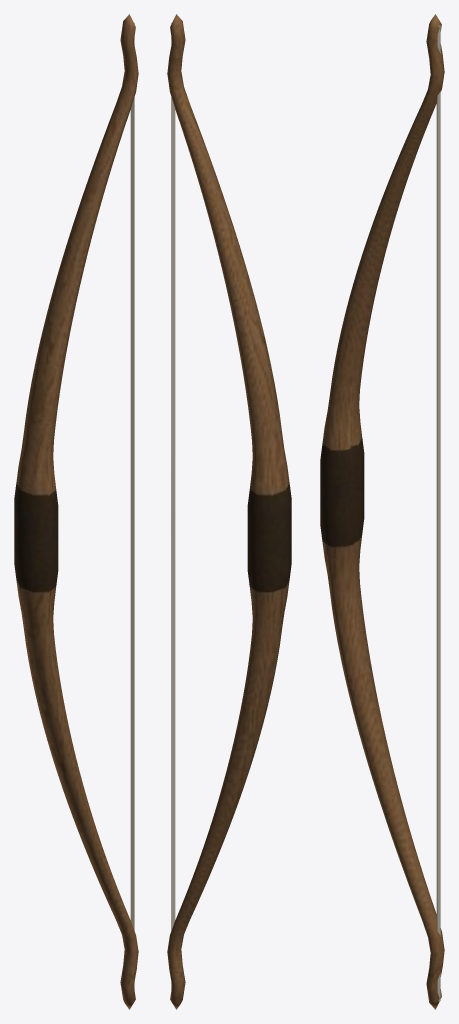
The model's file is bow-3000-v1.glb.
3 renders of one model, left to right at view 1: azimuth 30°, elevation 25°; view 2: azimuth 150°, elevation 25°; view 3: azimuth 330°, elevation 25°, orthographic.
Visible parts, largest first — view 1: bow-3000-v1; view 2: bow-3000-v1; view 3: bow-3000-v1.
Boxes of the visible parts, <box> form: bow-3000-v1: <box>14,14,138,1009</box>; bow-3000-v1: <box>167,14,291,1009</box>; bow-3000-v1: <box>320,14,444,1009</box>.
Size of the model in its own units: 0.1469 by 1.17 by 0.055.
Materials: 1 (1 with a texture image).
